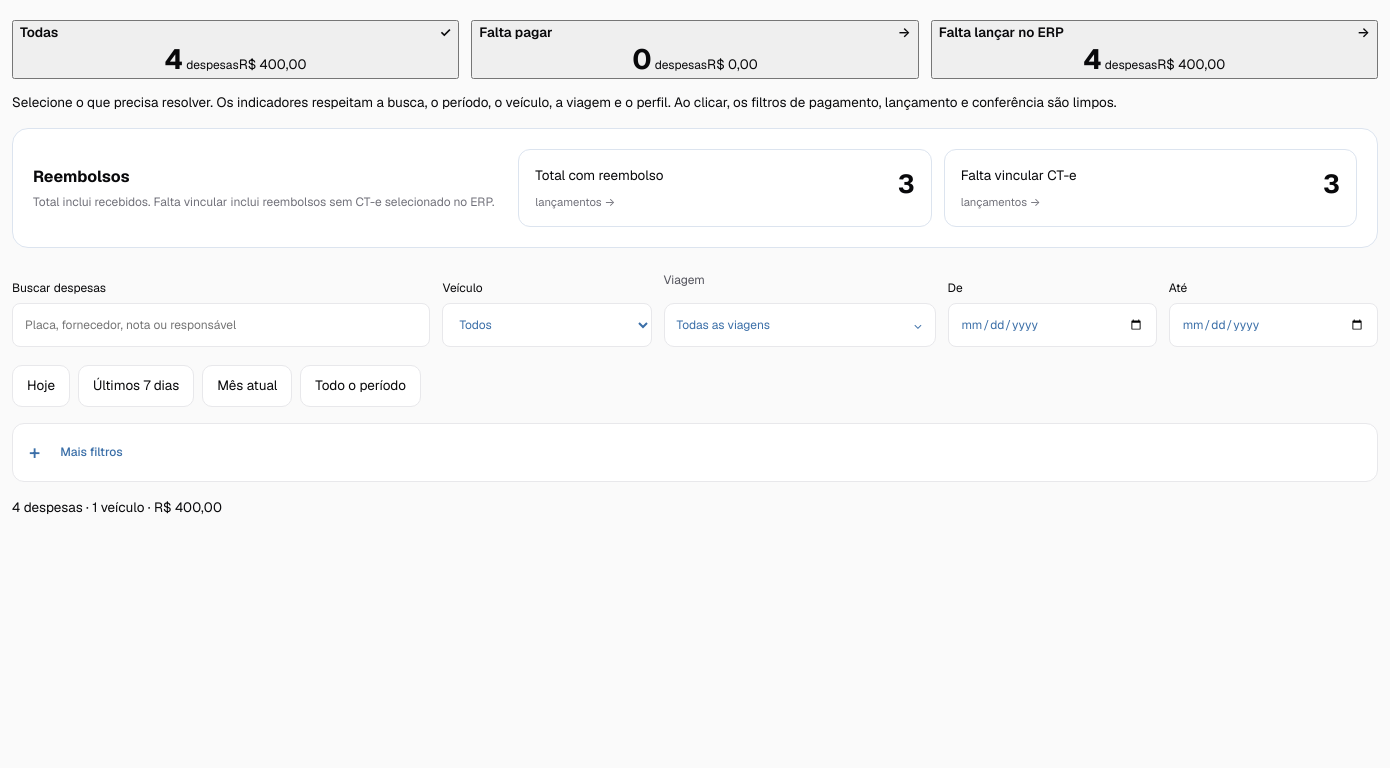
Scenario: falta vincular inclui referencia manual mesmo cobrada ou recebida
This screenshot has width=1390, height=768.
Step 1. Click the button "Falta vincular CT-e 3 lançamentos →" → [1019, 175], box x1=944 y1=149 x2=1357 y2=227
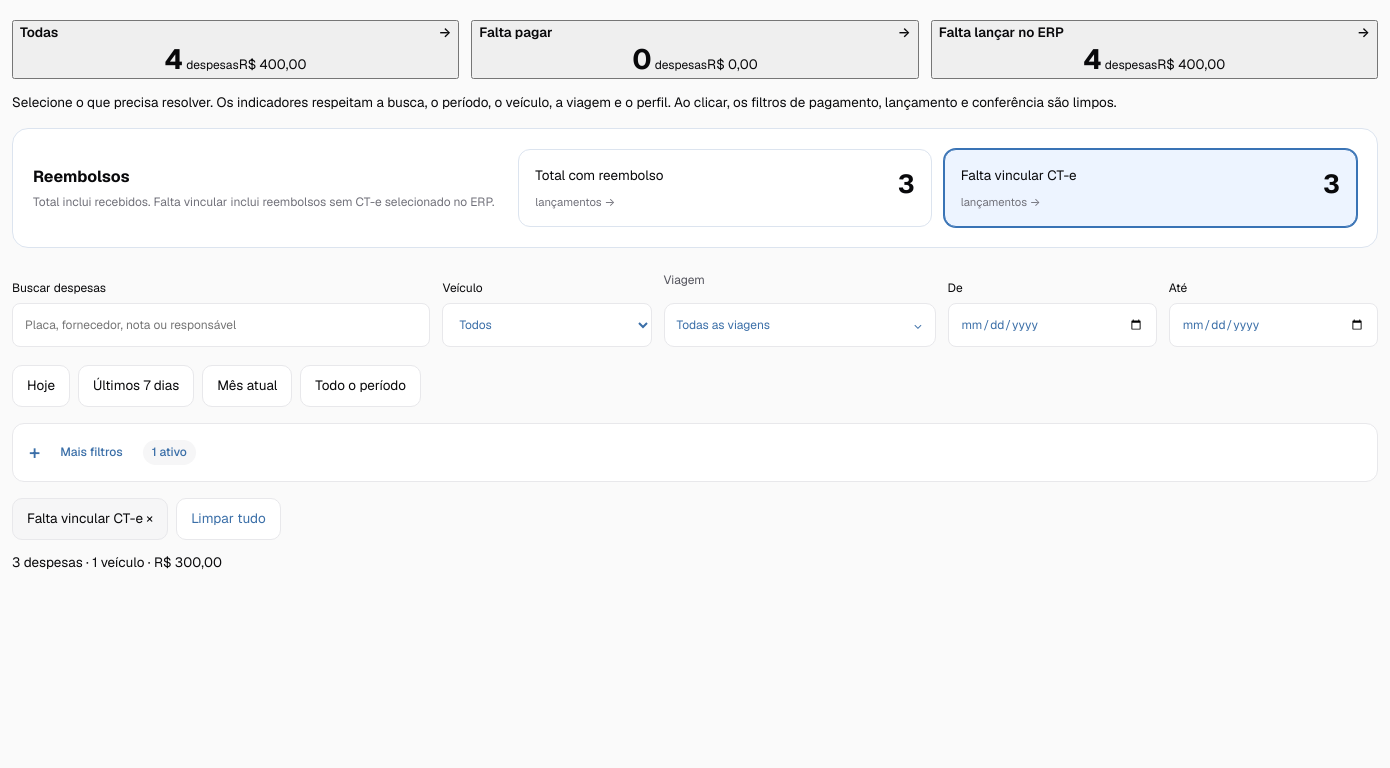
Expected: the message shows "3 despesas", x1=12 y1=553 x2=222 y2=571
